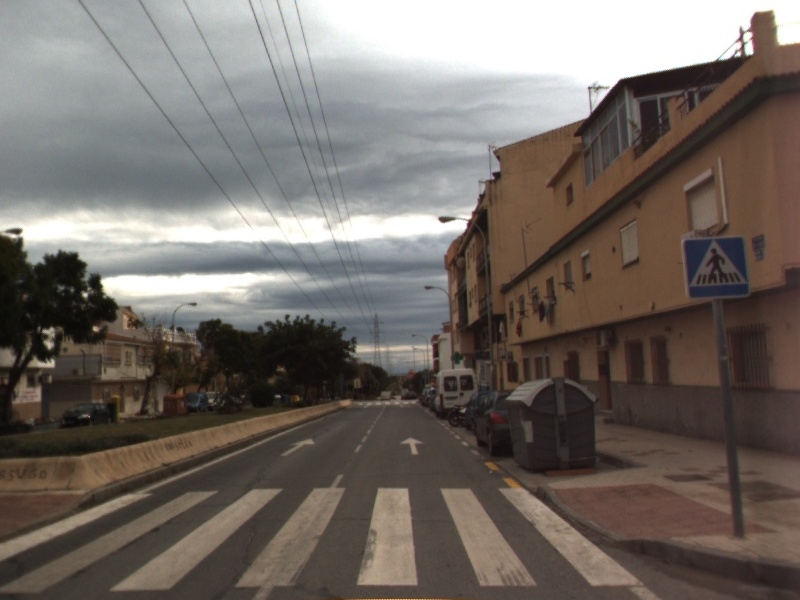STRAIGHT: (278, 436, 317, 458), (398, 435, 427, 457)
